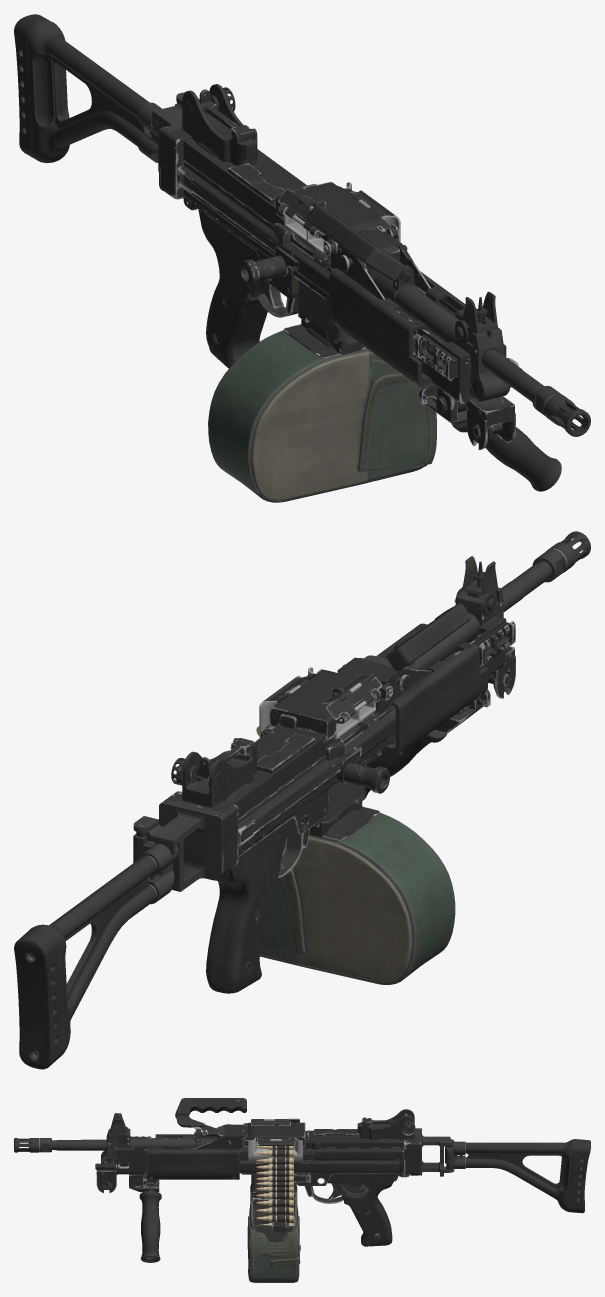
Rendered from negev.glb.
3 renders of one model, top to bottom at view 1: azimuth 30°, elevation 25°; view 2: azimuth 150°, elevation 25°; view 3: azimuth 270°, elevation 25°, orthographic. The views are drawn at different scales.
Parts seen in each view (by area): view 1: Negev_CS2; view 2: Negev_CS2; view 3: Negev_CS2.
Part boxes in pixels (left/top/right/bottom): Negev_CS2: left=14, top=14, right=590, bottom=502; Negev_CS2: left=14, top=531, right=590, bottom=1069; Negev_CS2: left=14, top=1098, right=590, bottom=1282.
Bounding box in the file's own units: 0.2249 × 0.3013 × 1.01.
1 material, 1 textured.
